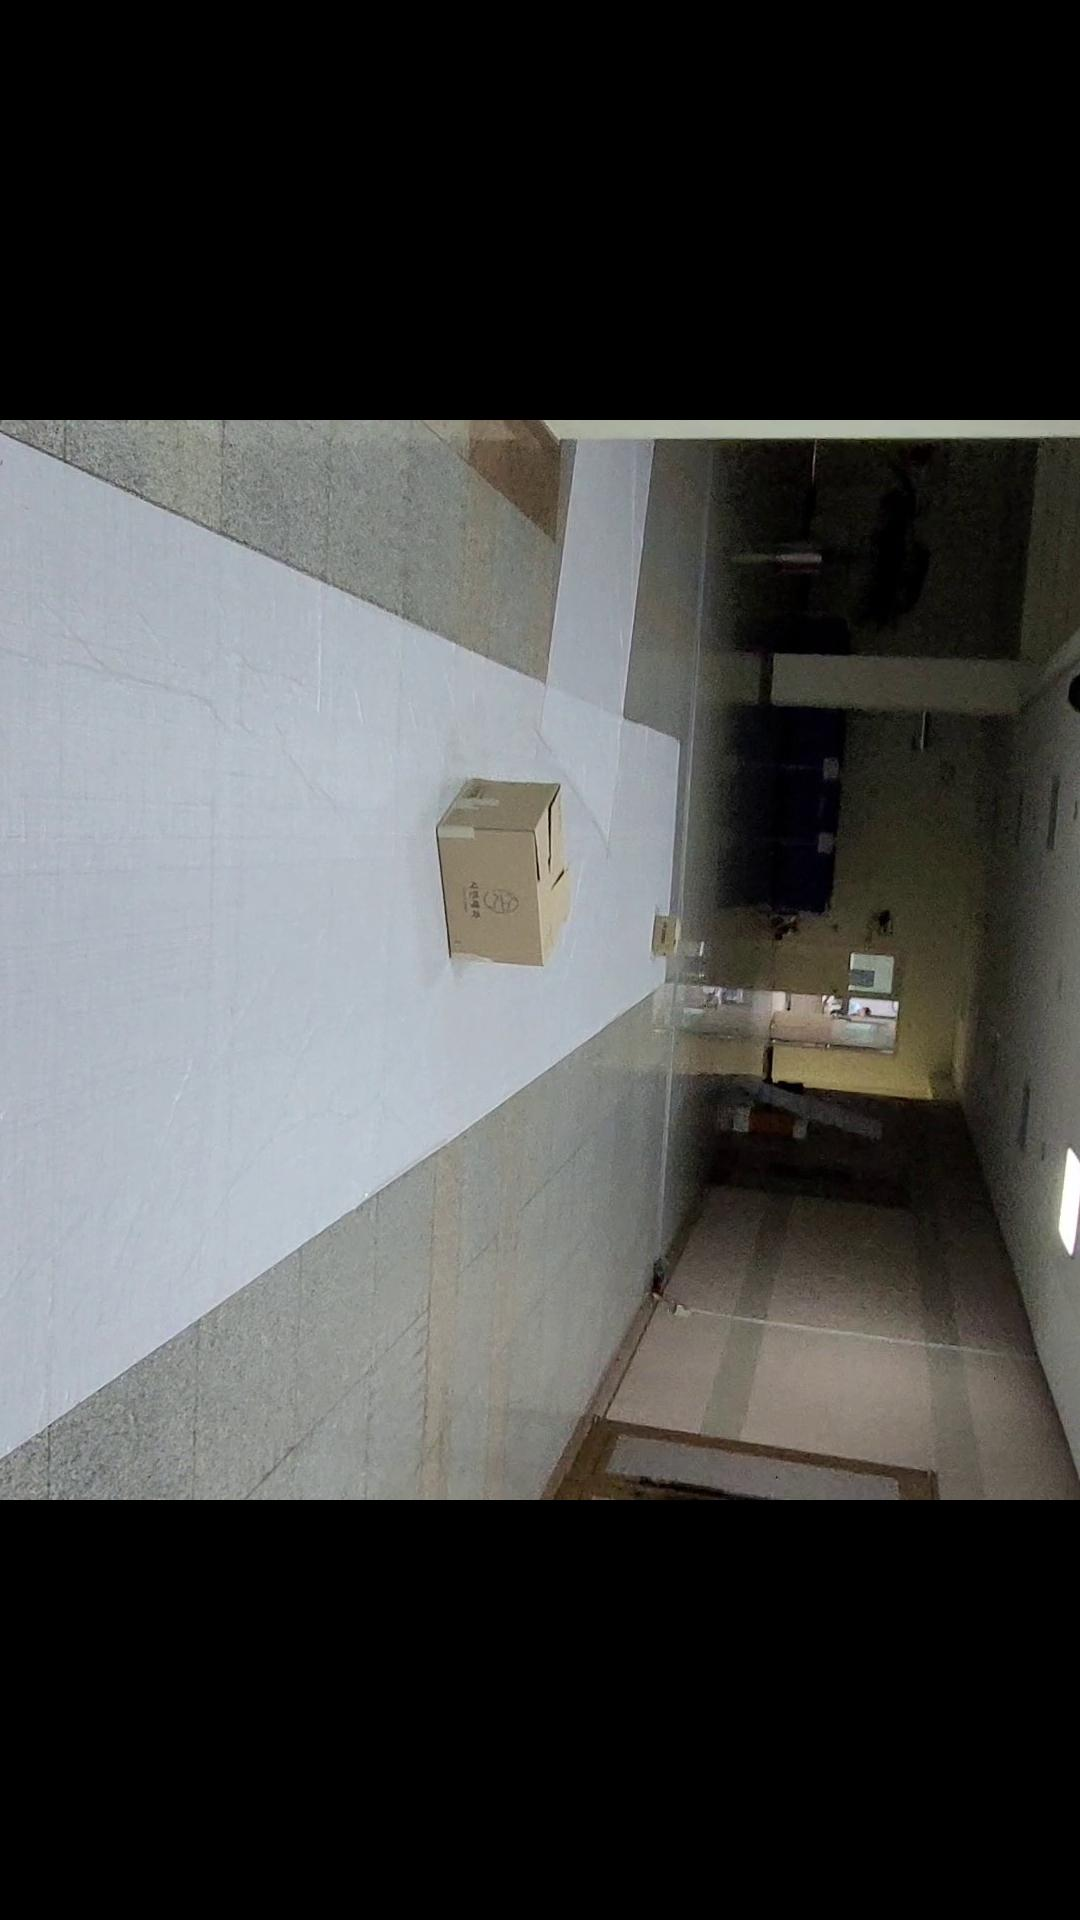Box: (415, 781, 589, 980), (622, 898, 712, 982)
